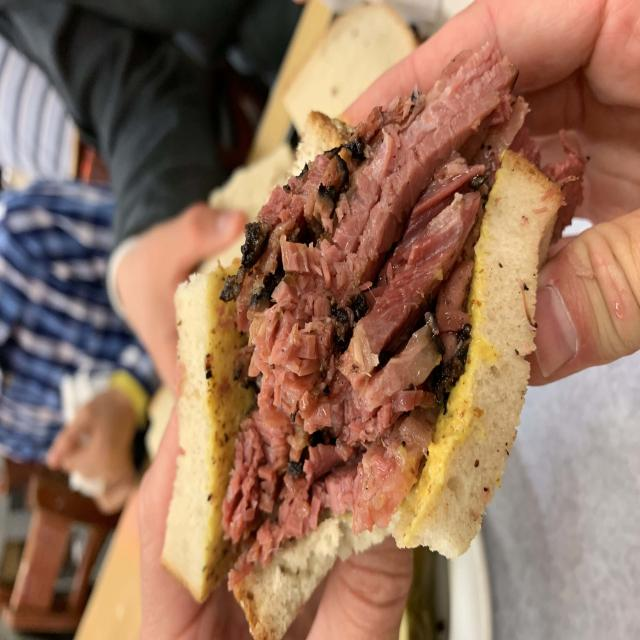organic: (160, 5, 574, 640)
